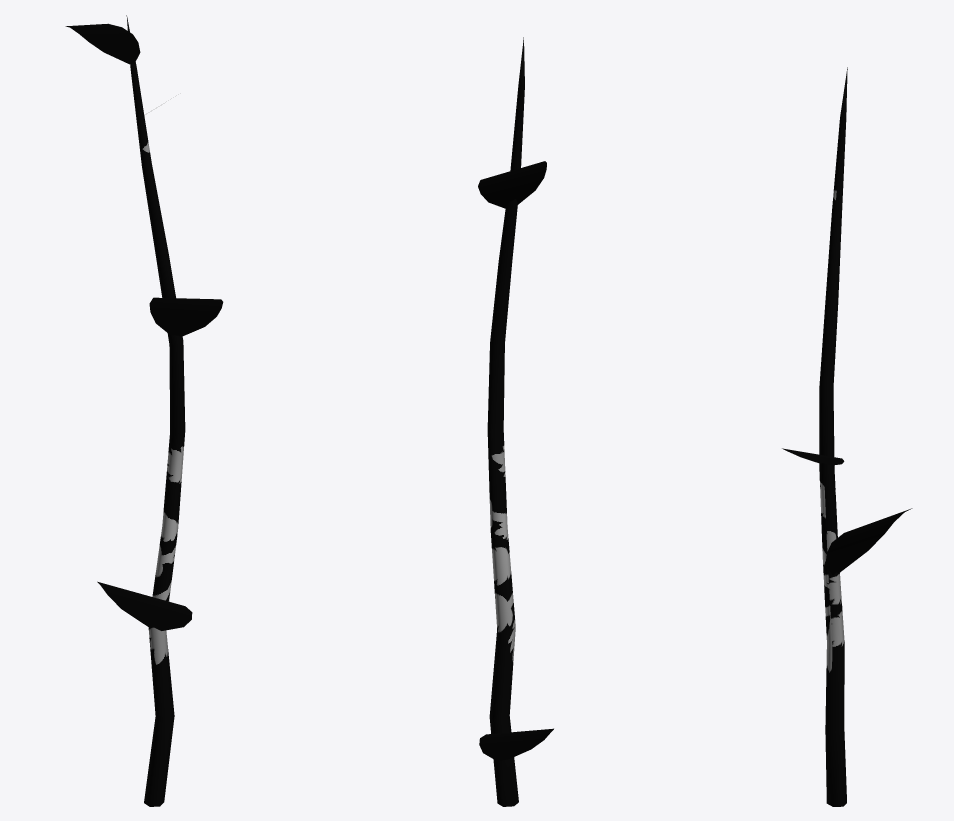
File: SM_Plant_03.glb
The picture shows the model from 3 angles, left to right: view 1: azimuth 30°, elevation 25°; view 2: azimuth 150°, elevation 25°; view 3: azimuth 270°, elevation 25°; orthographic projection. The views are drawn at different scales.
Visible parts, largest first — view 1: SM_Plant_03; view 2: SM_Plant_03; view 3: SM_Plant_03.
Part boxes in pixels (x1,y1,x2,y2): SM_Plant_03: (65,15,223,806); SM_Plant_03: (478,37,553,806); SM_Plant_03: (782,67,912,806).
Size of the model in its own units: 0.3475 by 1.09 by 0.3061.
Materials: 1 (1 with a texture image).
